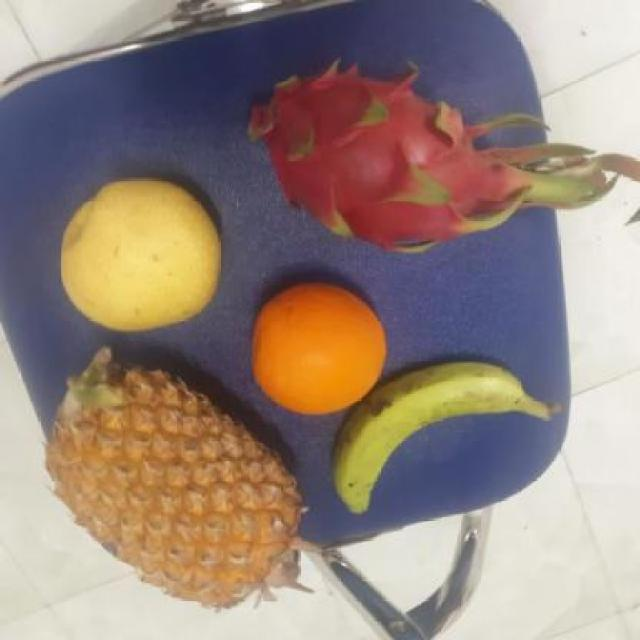banana: (327, 355, 528, 516)
dragon fruit: (254, 73, 497, 253)
oren: (249, 277, 389, 421)
pear: (58, 177, 222, 337)
pineapple: (46, 366, 295, 619)
